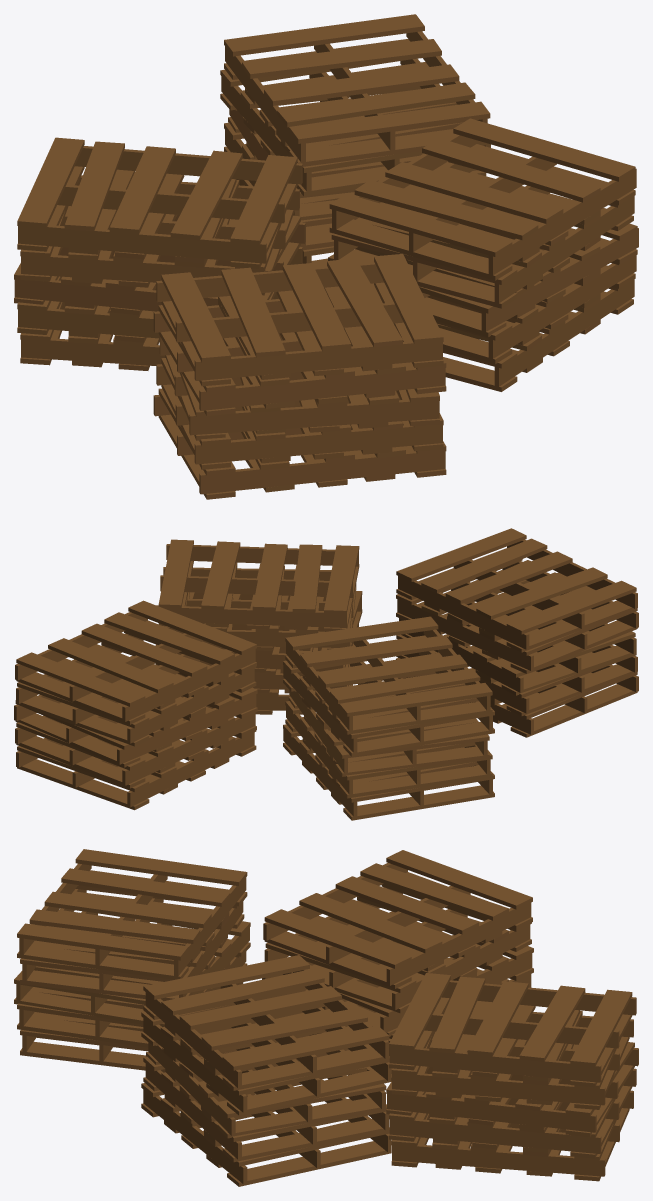
File: Wooden_Plate-1.fbx
3 renders of one model, top to bottom at view 1: azimuth 30°, elevation 25°; view 2: azimuth 150°, elevation 25°; view 3: azimuth 270°, elevation 25°, orthographic. The views are drawn at different scales.
Parts seen in each view (by area): view 1: Wooden Plate-1; view 2: Wooden Plate-1; view 3: Wooden Plate-1.
Boxes of the visible parts, x1,y1,x2,y2 form: Wooden Plate-1: (14, 14, 638, 499); Wooden Plate-1: (14, 528, 638, 820); Wooden Plate-1: (14, 849, 638, 1186).
Size of the model in its own units: 3.97 by 0.9981 by 4.72.
